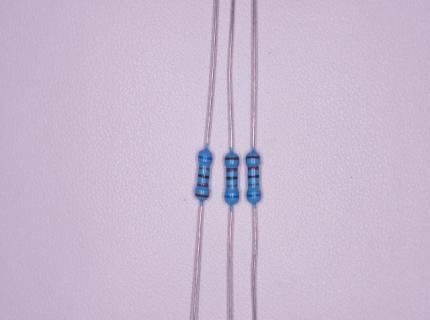Black band: (197, 174, 209, 179), (226, 176, 238, 180), (247, 175, 259, 178)
Blue band: (224, 195, 239, 199), (198, 156, 212, 160), (247, 194, 261, 198)
Brown band: (195, 193, 209, 198), (225, 157, 239, 161), (245, 156, 261, 159)
Grey band: (198, 167, 210, 171), (248, 183, 260, 186), (226, 185, 238, 188)
Red band: (196, 182, 209, 188), (247, 166, 259, 171), (226, 168, 238, 172)
